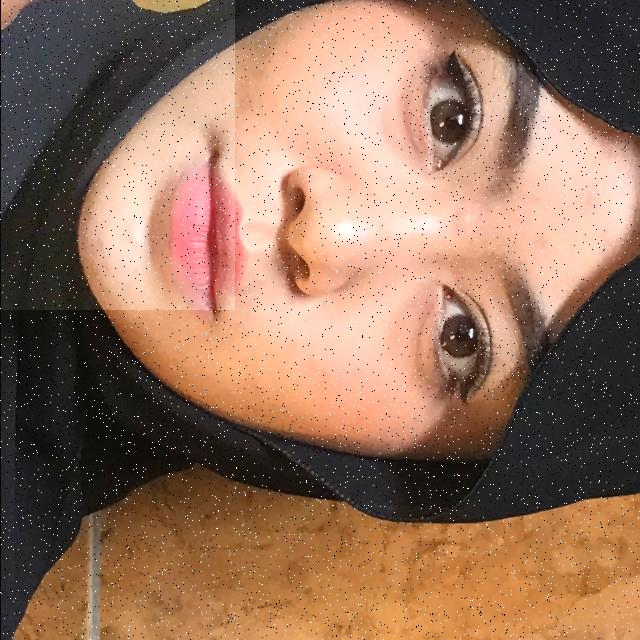kamu: (0, 0, 234, 310)
